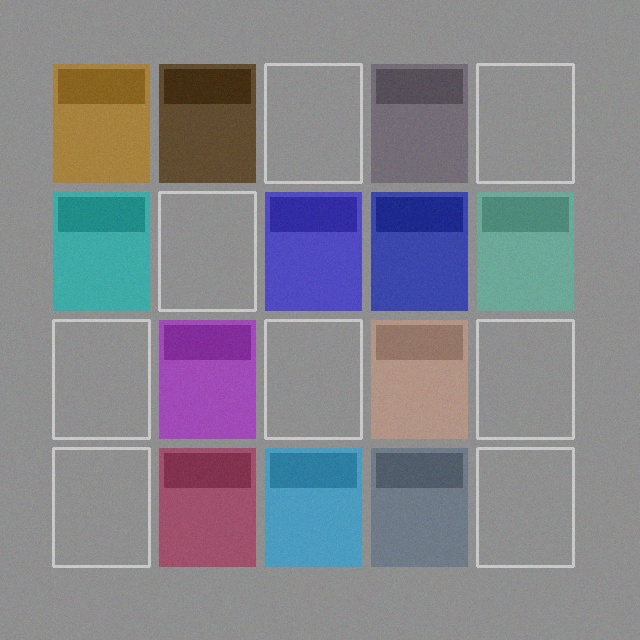space-empty: (265, 64, 361, 182), (477, 64, 573, 182), (159, 192, 255, 310), (53, 320, 149, 438), (265, 320, 361, 438), (477, 320, 573, 438), (53, 448, 149, 566), (477, 448, 573, 566)
space-occupied: (53, 64, 149, 182), (159, 64, 255, 182), (371, 64, 467, 182), (53, 192, 149, 310), (265, 192, 361, 310), (371, 192, 467, 310), (477, 192, 573, 310), (159, 320, 255, 438), (371, 320, 467, 438), (159, 448, 255, 566), (265, 448, 361, 566), (371, 448, 467, 566)
